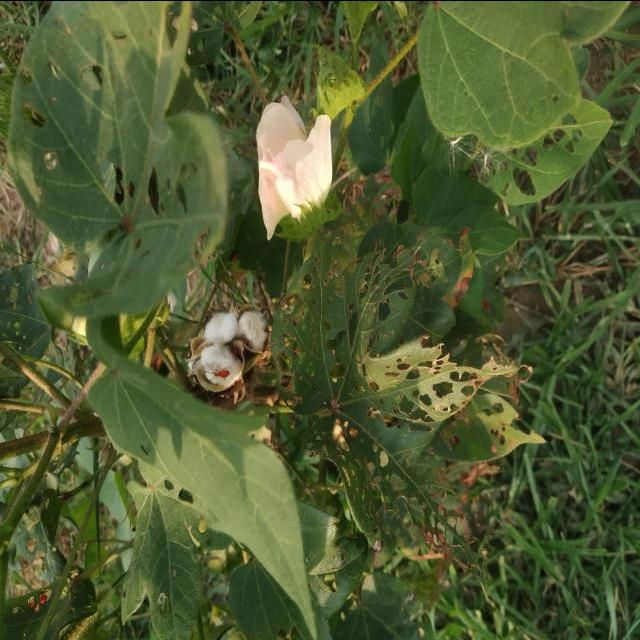Cotton Blossom: (248, 97, 336, 255)
Matured Cotton Boll: (190, 302, 272, 395)
